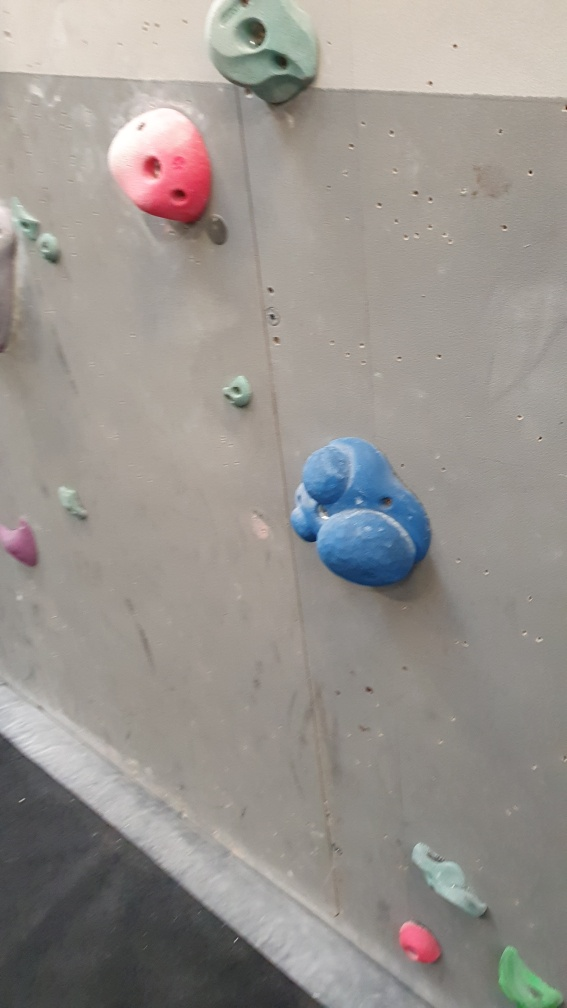Sloper: (291, 435, 435, 585)
